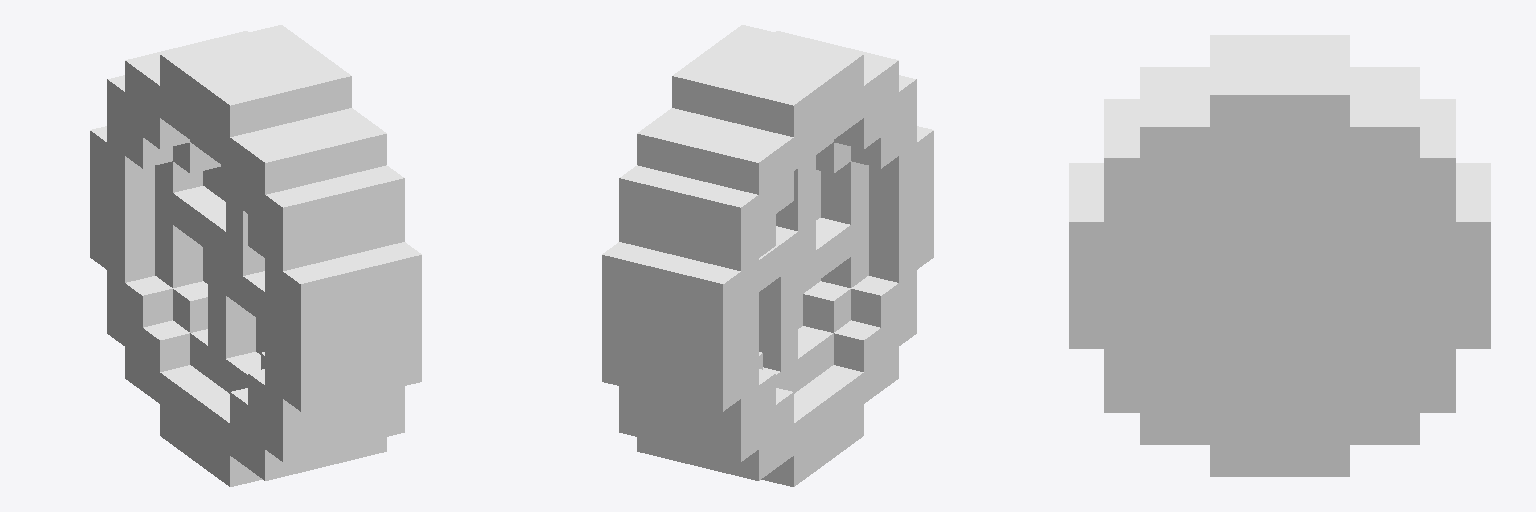
Rendered from Bentley-4.obj.
The picture shows the model from 3 angles: view 1: azimuth 30°, elevation 25°; view 2: azimuth 150°, elevation 25°; view 3: azimuth 270°, elevation 25°; orthographic projection.
Parts seen in each view (by area): view 1: object 1; view 2: object 1; view 3: object 1.
Part boxes in pixels (bbox=[...]): object 1: bbox=[90, 25, 421, 486]; object 1: bbox=[602, 25, 933, 486]; object 1: bbox=[1069, 35, 1490, 476].
Size of the model in its own units: 4 by 12 by 12.